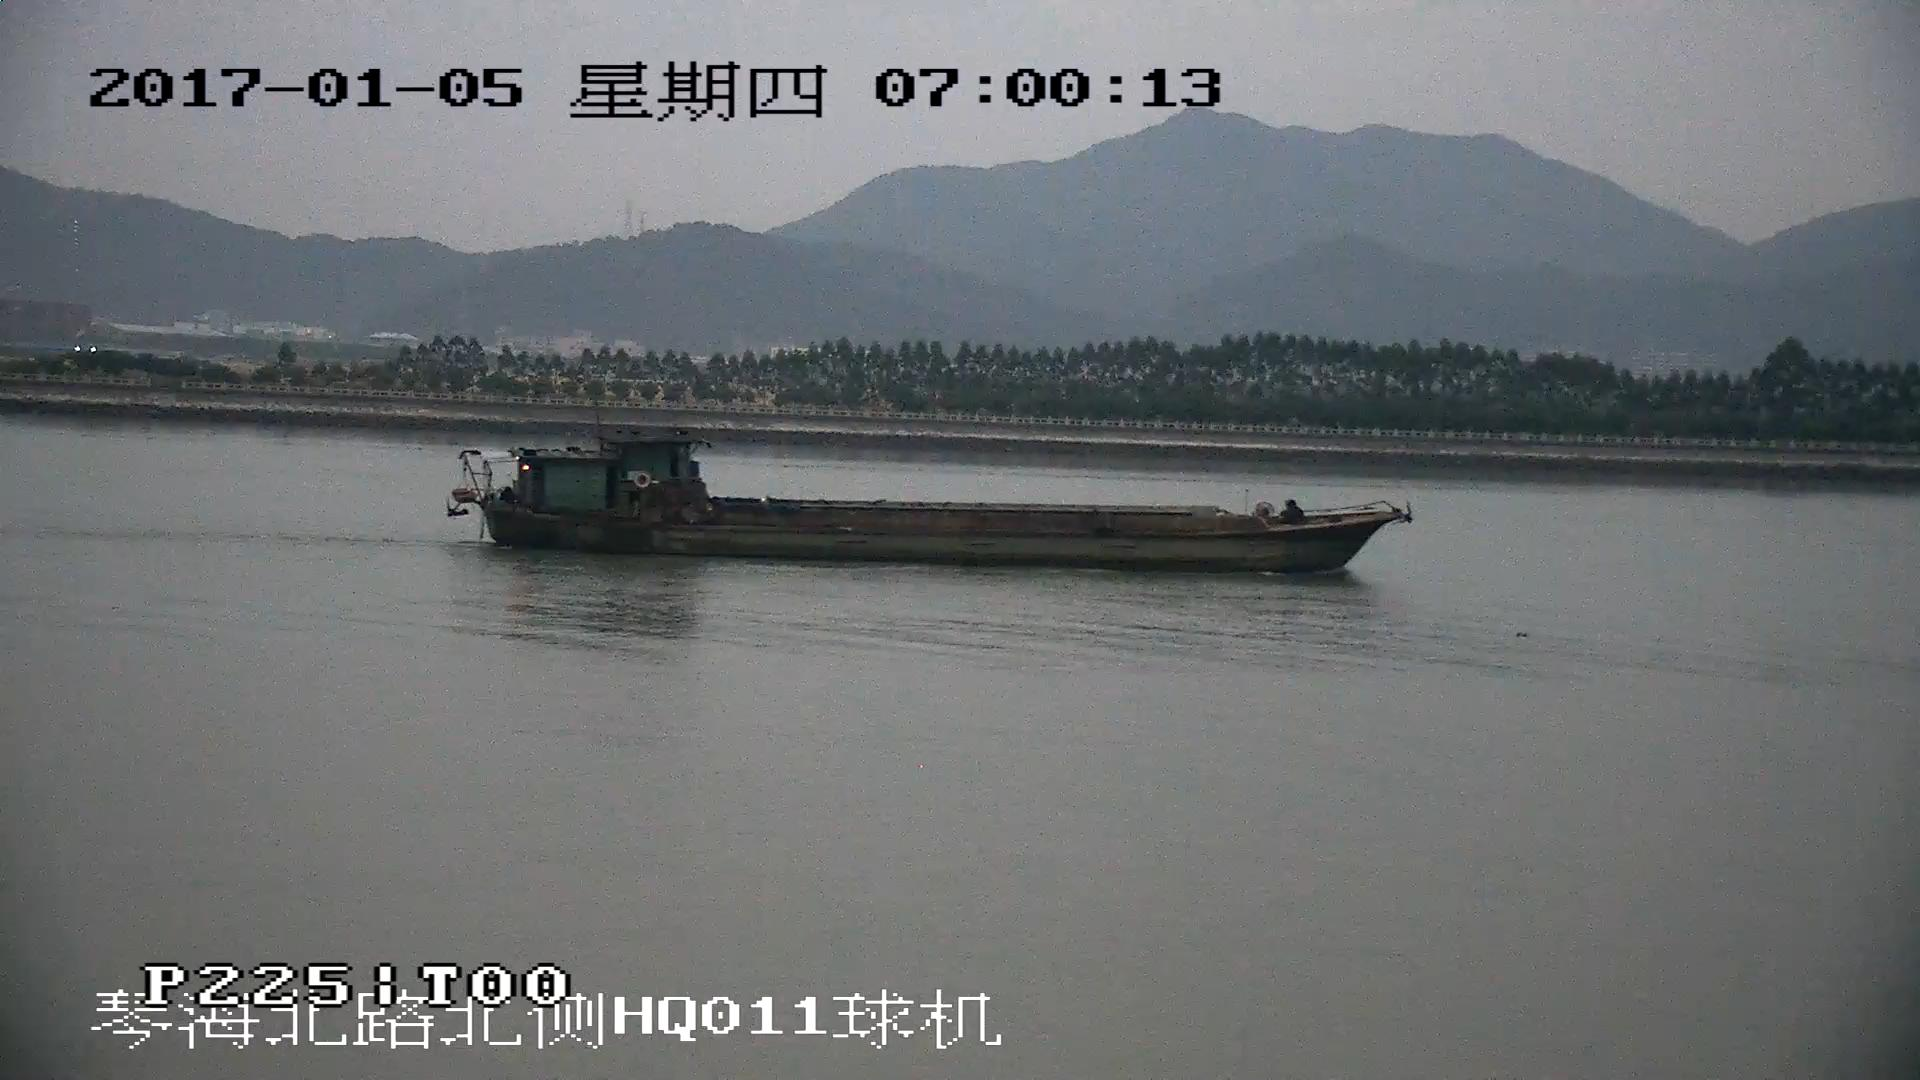bulk cargo carrier: (446, 442, 1416, 583)
